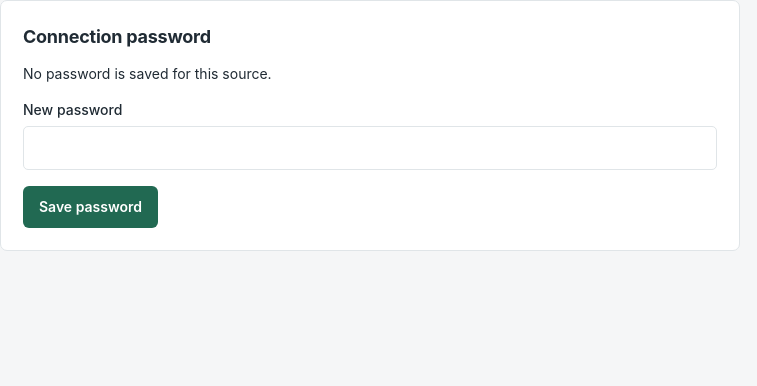
Scenario: management forms › clears the password input even after failure and never retries it
Type "test-only-secret" into the password field labelled "New password" at (370, 148), box [23,126,717,170]
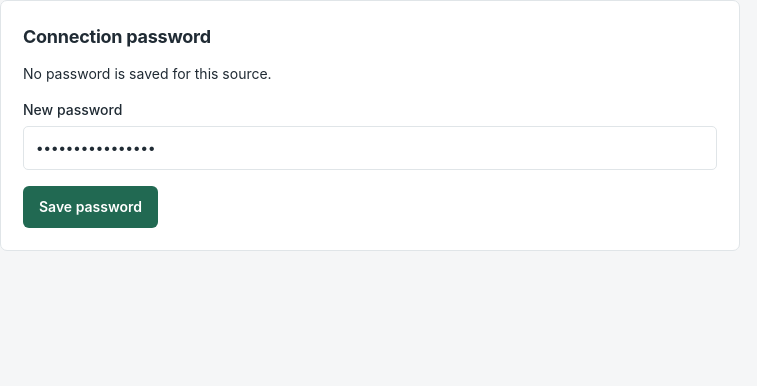
Click the button "Save password" at (90, 207), box [23,186,158,228]
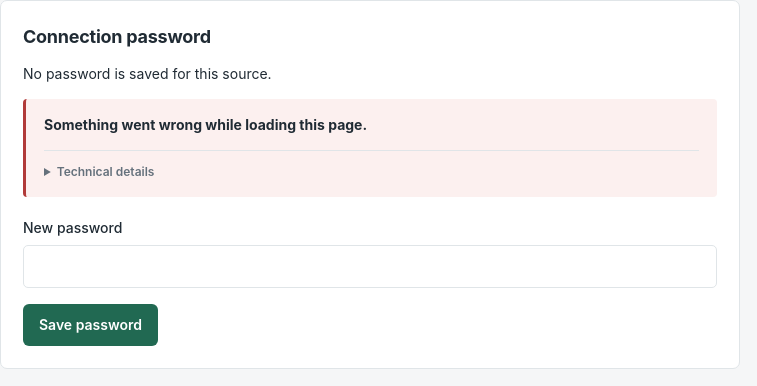
Expected: the password field labelled "New password" is empty, [23,244,717,288]
